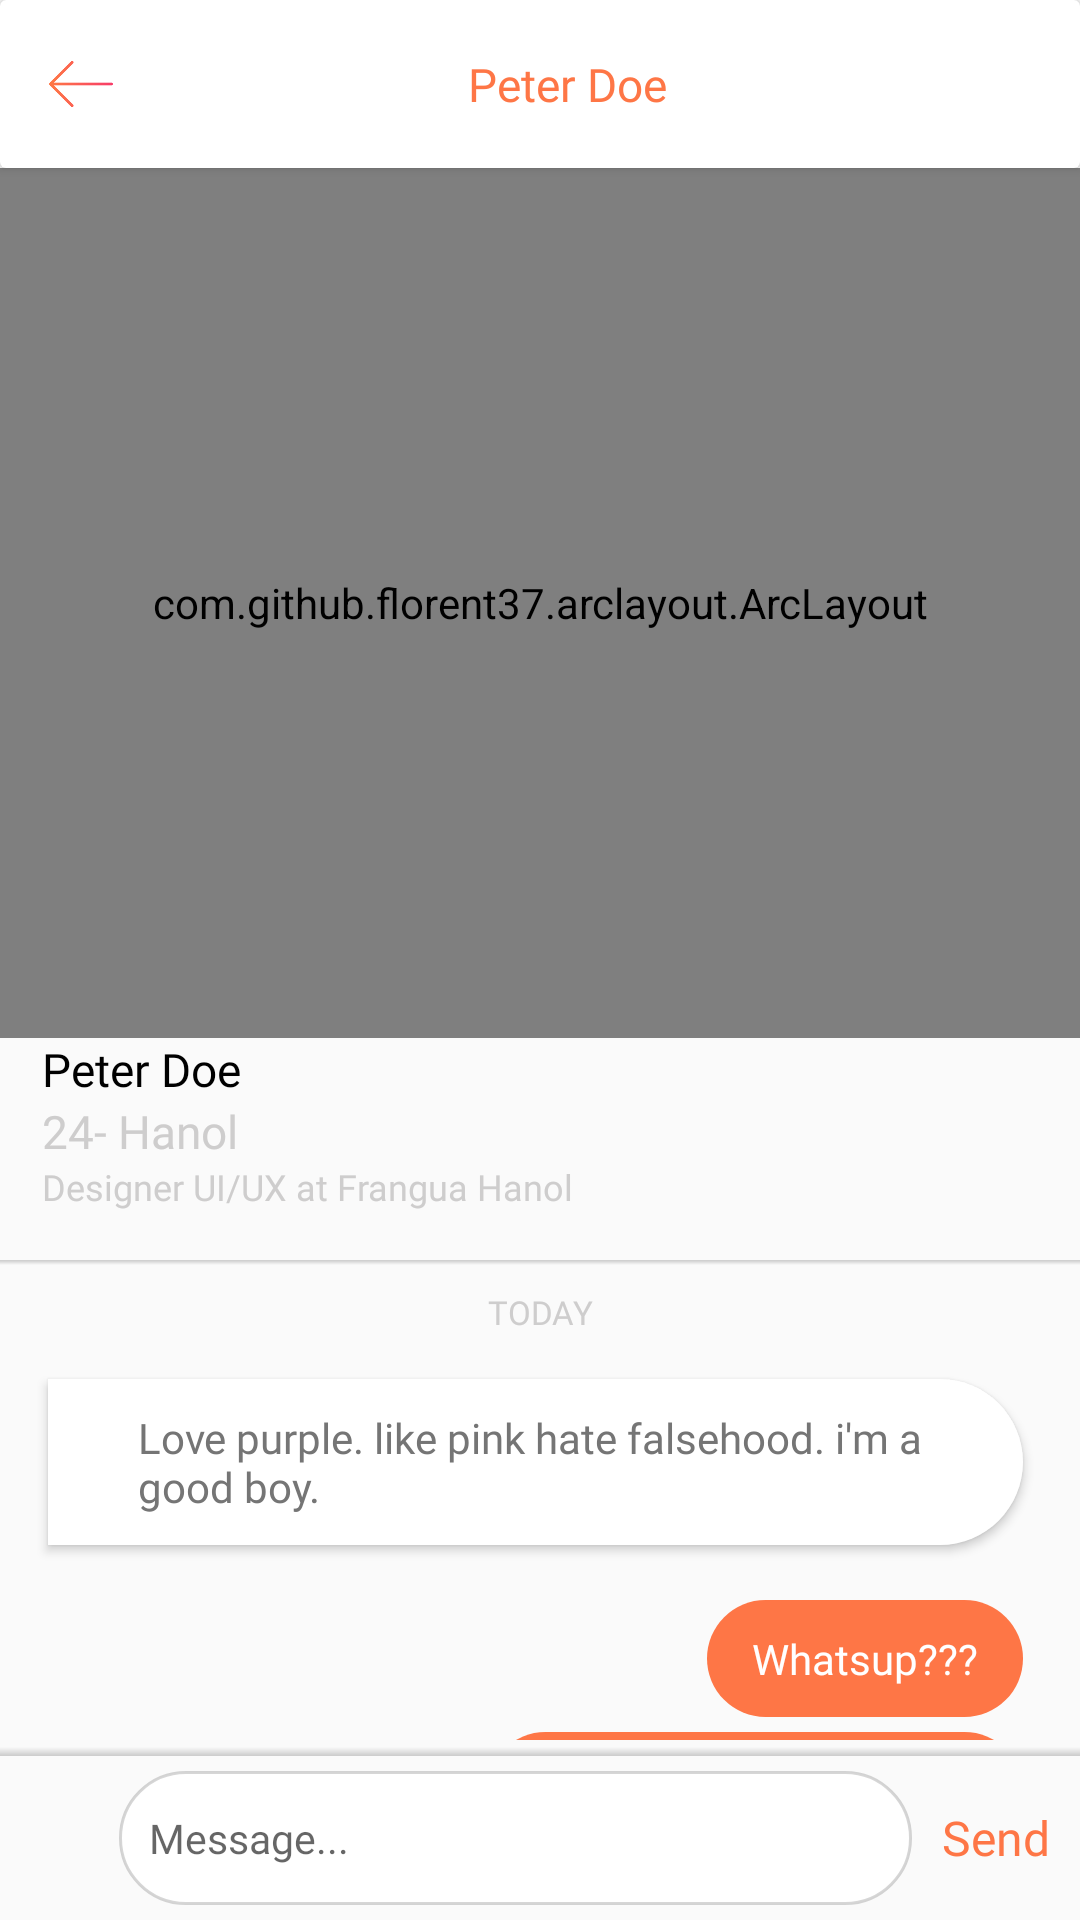

Point at icon controls on the screen. Image size 1080x1920, points as point (x, y).
left arrow: point (81, 84)
